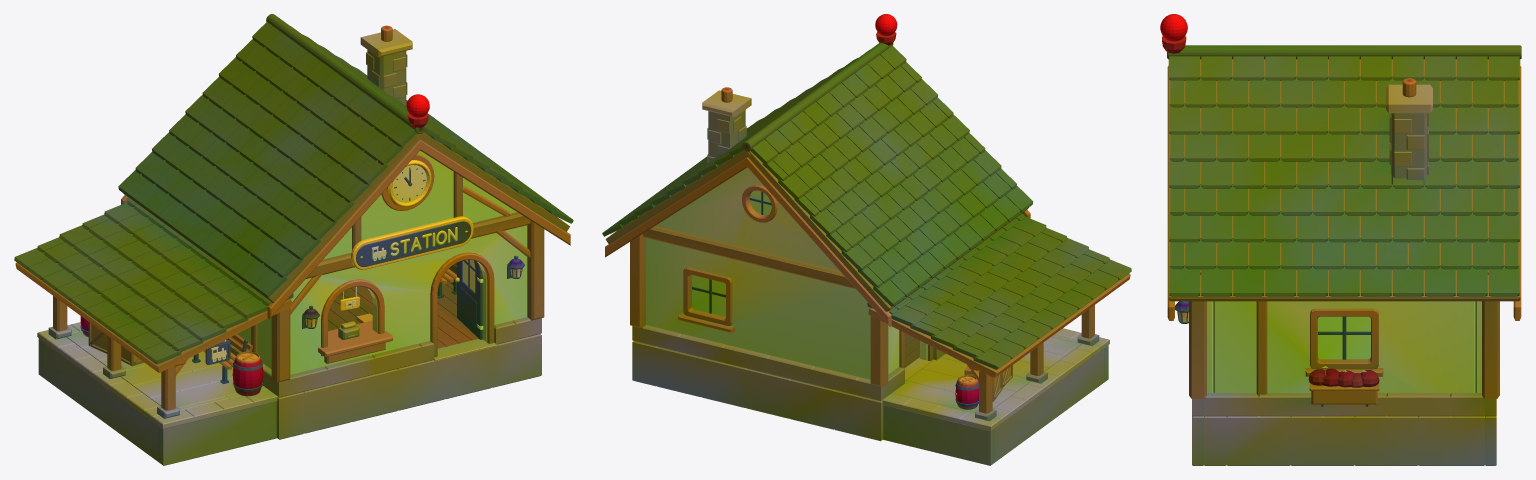
File: Station_Building_Green.fbx
3 renders of one model, left to right at view 1: azimuth 30°, elevation 25°; view 2: azimuth 150°, elevation 25°; view 3: azimuth 270°, elevation 25°, orthographic. The views are drawn at different scales.
Parts seen in each view (by area): view 1: Roof, LeanTo, Walls, Plinth, Facade, Openings, Door, Loose_Barrel_Canopy, Loose_CrateStack_Canopy, Sign_Name_Text, Loose_Bench_Canopy; view 2: Roof, LeanTo, Walls, Plinth, Facade, Loose_Barrel_Small; view 3: Roof, Walls, Plinth, Facade.
Part boxes in pixels (x1,y1,x2,y2): Roof: [118, 14, 573, 302]; LeanTo: [14, 199, 293, 465]; Walls: [121, 139, 570, 382]; Plinth: [224, 281, 541, 439]; Facade: [302, 154, 524, 328]; Openings: [318, 252, 494, 363]; Door: [455, 259, 483, 339]; Loose_Barrel_Canopy: [232, 351, 263, 396]; Loose_CrateStack_Canopy: [88, 322, 143, 366]; Sign_Name_Text: [390, 227, 457, 256]; Loose_Bench_Canopy: [192, 334, 252, 383]; Roof: [602, 14, 1033, 311]; LeanTo: [867, 213, 1131, 465]; Walls: [605, 157, 1030, 386]; Plinth: [632, 325, 945, 441]; Facade: [678, 185, 933, 368]; Loose_Barrel_Small: [955, 375, 978, 409]; Roof: [1160, 14, 1521, 301]; Walls: [1167, 66, 1521, 398]; Plinth: [1192, 392, 1496, 465]; Facade: [1175, 301, 1383, 406].
Size of the model in its own units: 10.63 by 7.78 by 6.79.
